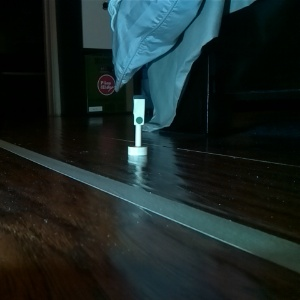traffic light green: (125, 93, 150, 158)
